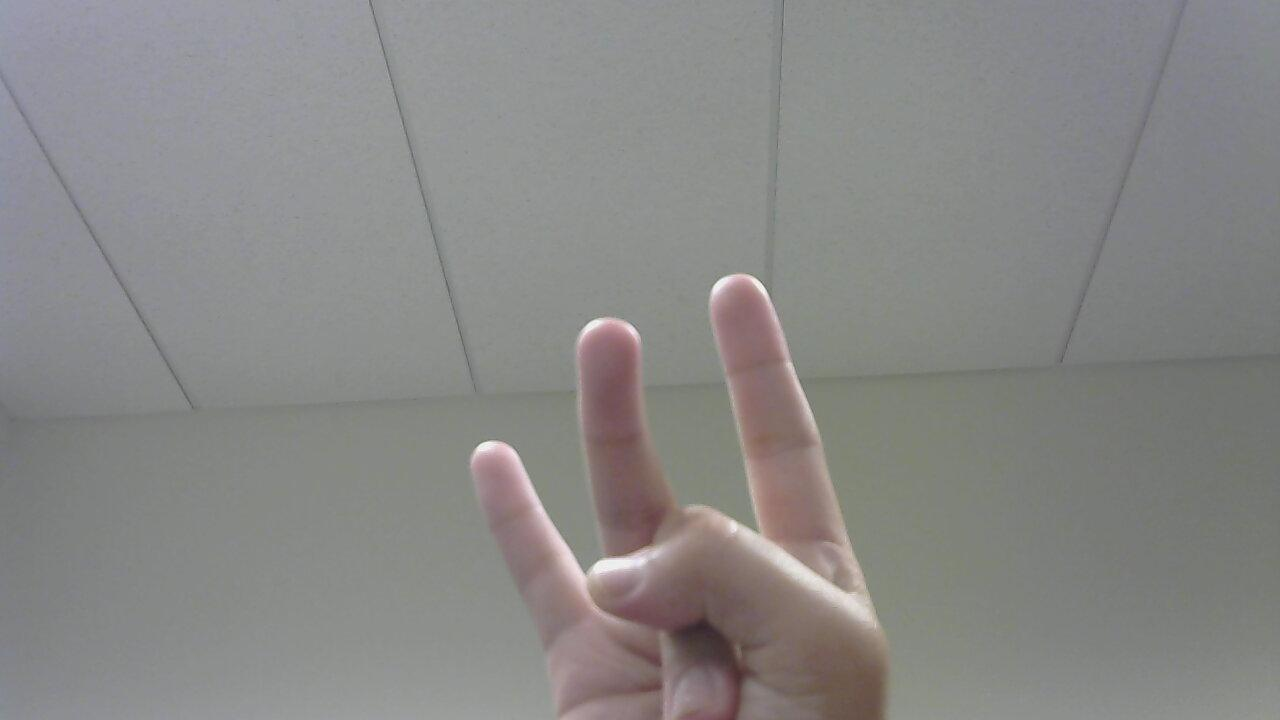hands: (431, 254, 918, 720)
